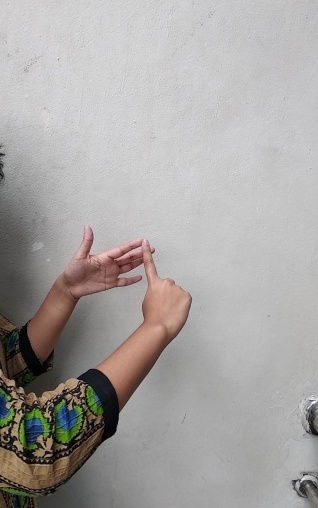o: (67, 223, 173, 329)
